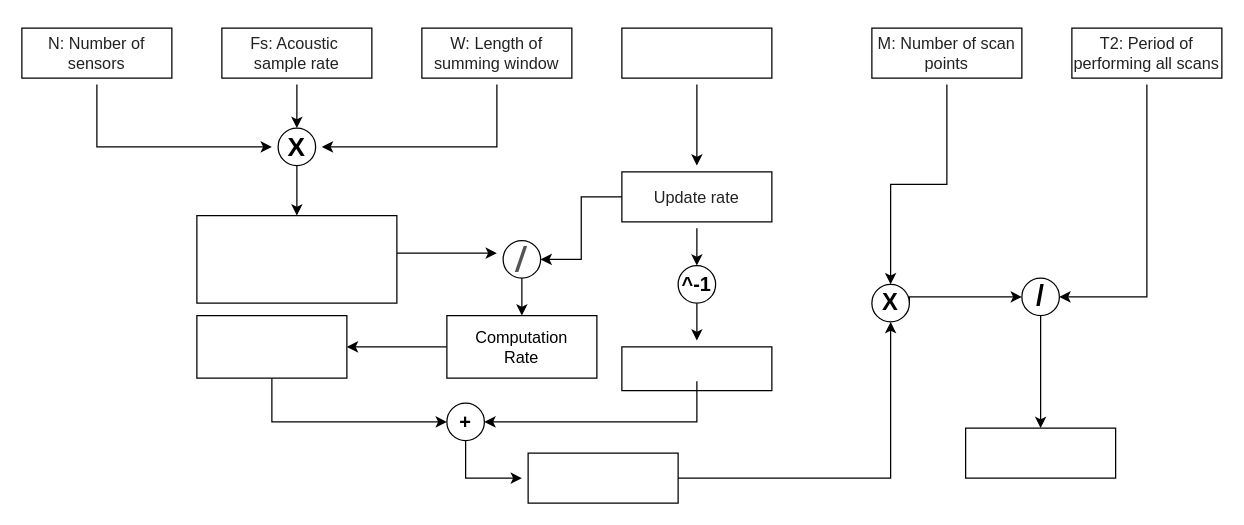
Some shapes in this 1244 by 525 pixel diagram are drawn without their labels. Each missing label, with the centre of its shape:
"# of adds" belongs at [271,346].
"# of compares" belongs at [696,368].
"# of FLOPS" belongs at [602,477].
"Summing of all samples from all sensors within summing window" belongs at [296,258].
"T1: Period of delay and sum operation" belongs at [696,52].
"Total # of FLOPS" belongs at [1040,452].
